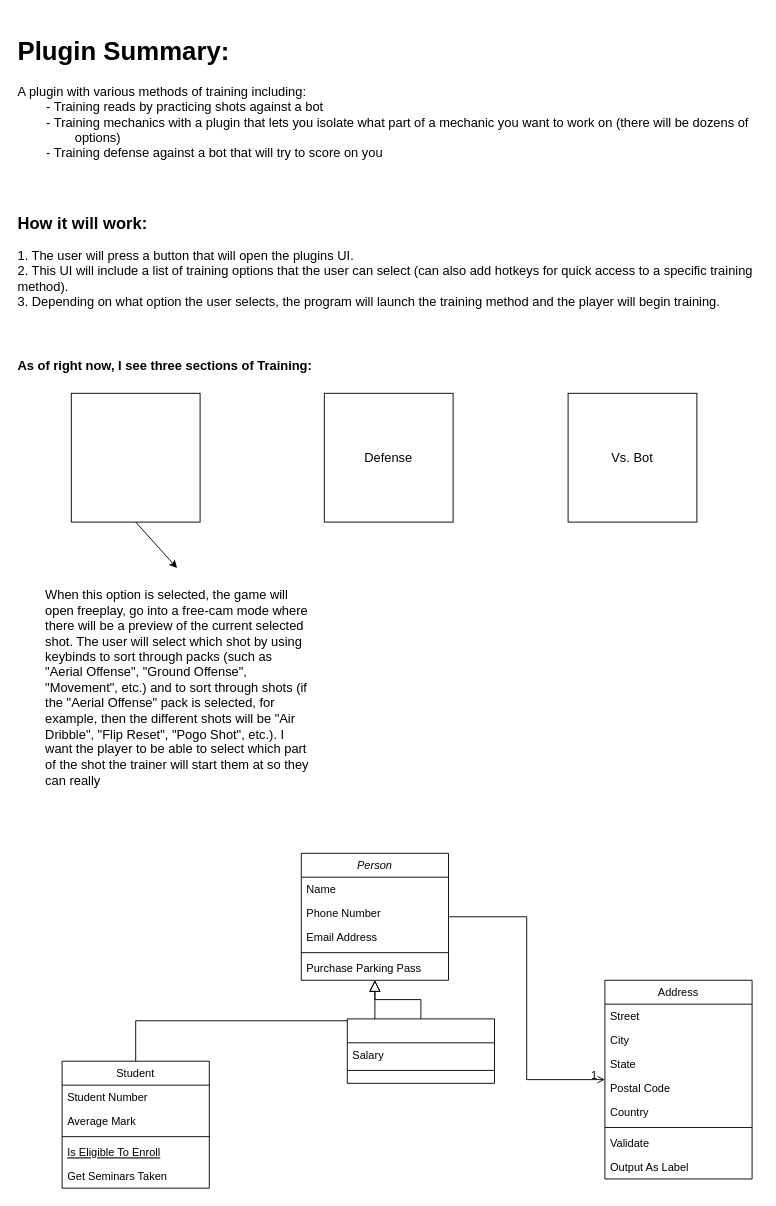
Some shapes in this 776 by 1206 pixel diagram are drawn without their labels. Each missing label, with the box of its shape:
Mechanics: (70, 392, 200, 522)
Professor: (346, 1018, 494, 1083)
